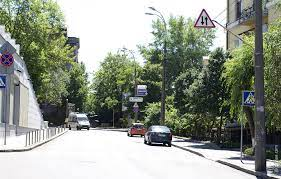1.19.1: (186, 8, 217, 27)
